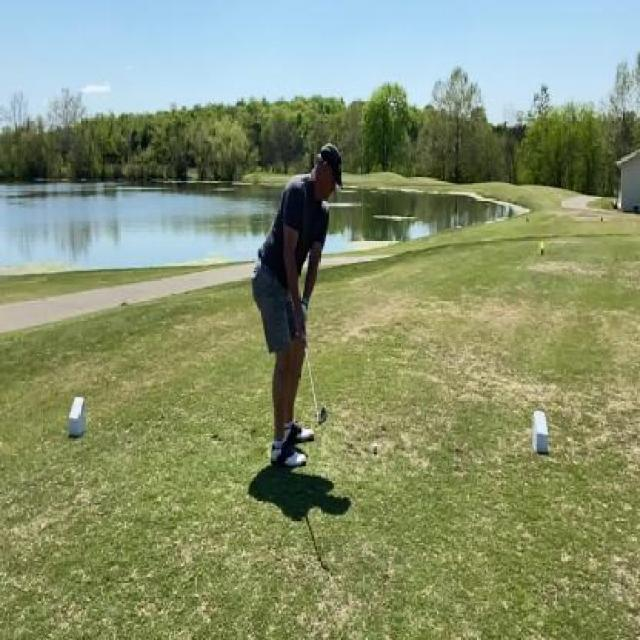club head: (314, 402, 328, 427)
